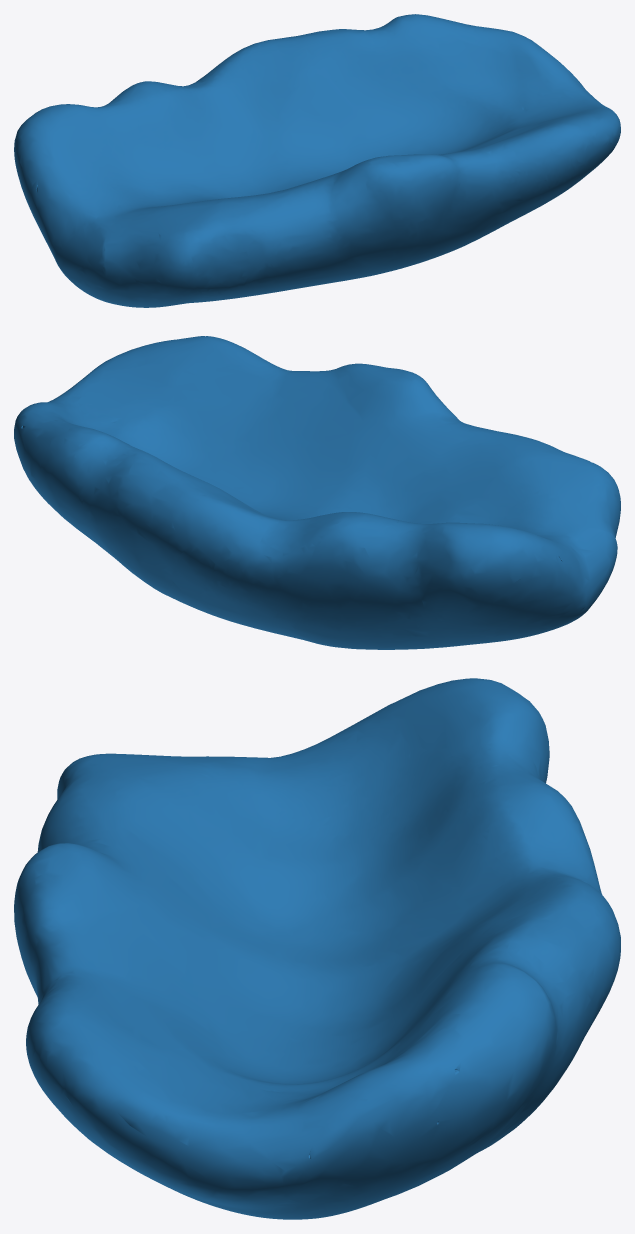
Rendered from tbtr_stage.gltf.
The picture shows the model from 3 angles, top to bottom: view 1: azimuth 30°, elevation 25°; view 2: azimuth 150°, elevation 25°; view 3: azimuth 270°, elevation 25°; orthographic projection. The views are drawn at different scales.
Parts seen in each view (by area): view 1: Seabed; view 2: Seabed; view 3: Seabed.
Part boxes in pixels (x1,y1,x2,y2): Seabed: (14,14,620,307); Seabed: (14,336,620,649); Seabed: (14,678,620,1219).
Bounding box in the file's own units: 50.42 × 15.47 × 30.76.
